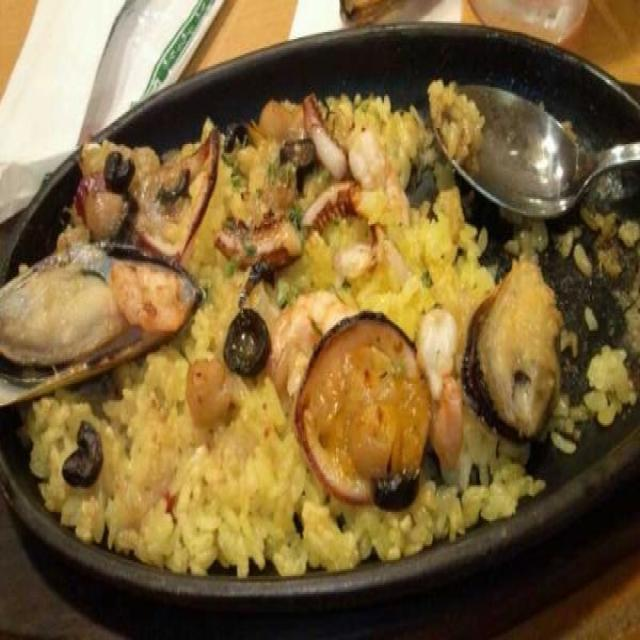熟制海鲜: (0, 261, 640, 594)
